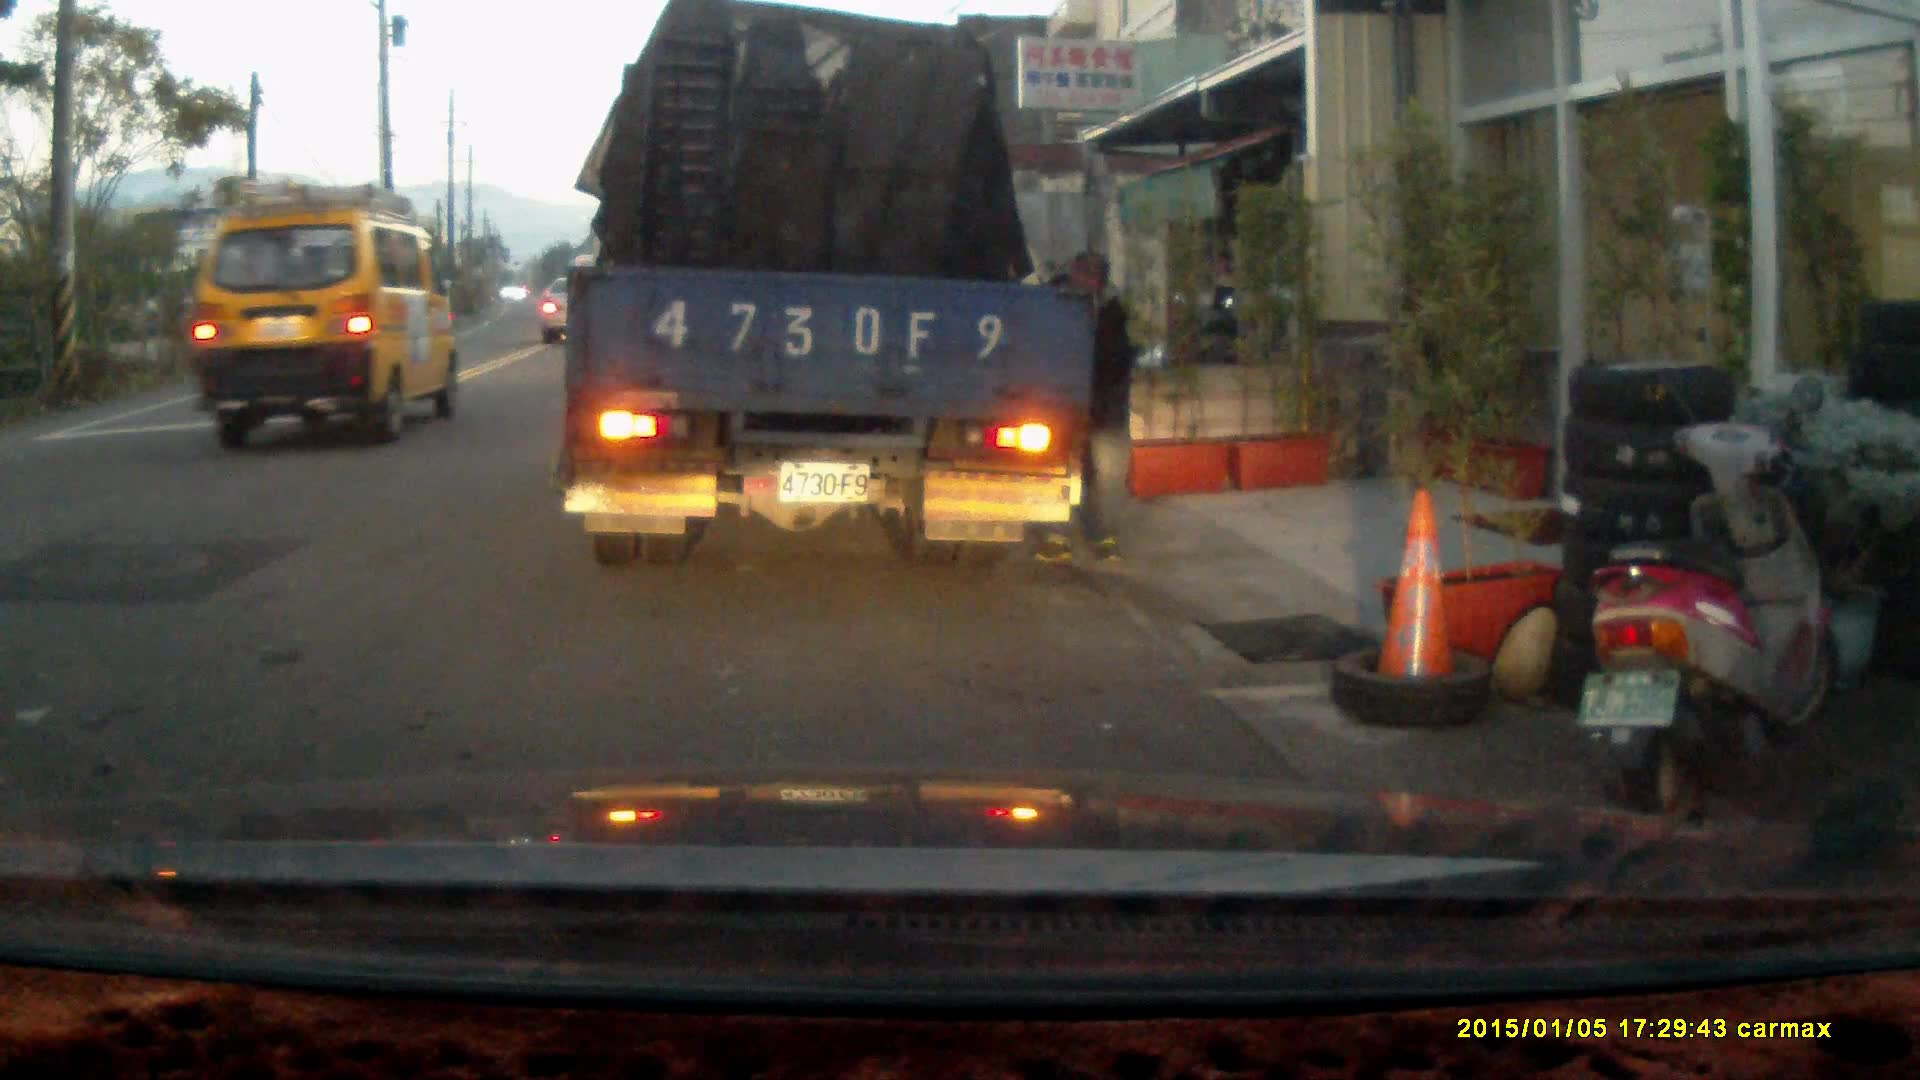pedestrian: (1029, 249, 1134, 564)
vehicle: (562, 24, 1086, 562), (180, 180, 464, 450), (541, 278, 601, 345)
